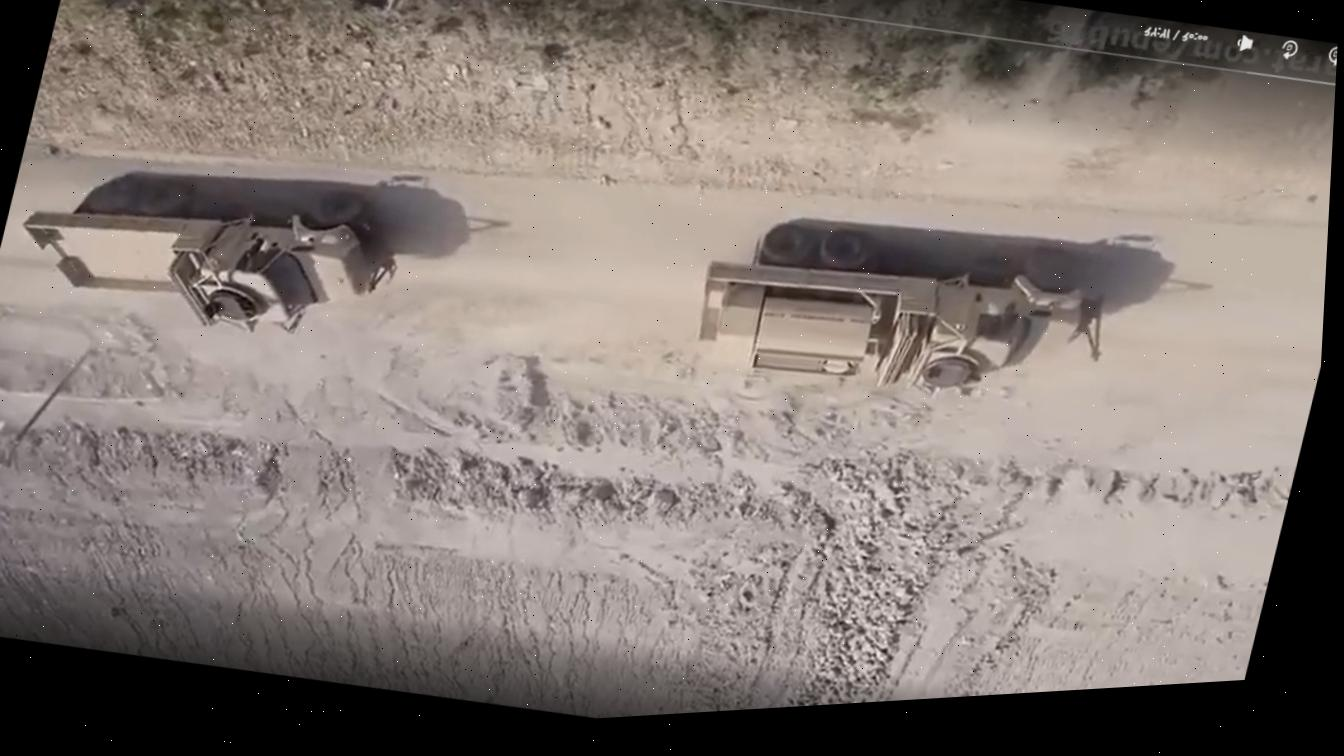truck: (677, 183, 1126, 451), (1, 124, 421, 375)
